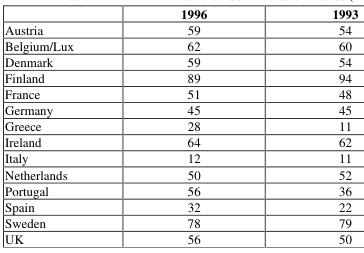table: (4, 4, 357, 246)
table column: (126, 4, 268, 246), (4, 4, 126, 246), (268, 4, 357, 246)
table column header: (4, 4, 357, 21)
table row: (4, 4, 357, 21), (4, 84, 357, 101), (4, 229, 357, 246), (4, 36, 357, 52), (4, 52, 357, 68), (4, 68, 357, 84), (4, 101, 357, 117), (4, 117, 357, 133), (4, 133, 357, 149), (4, 149, 357, 165), (4, 165, 357, 181), (4, 181, 357, 197), (4, 197, 357, 213), (4, 213, 357, 229), (4, 21, 357, 36)
